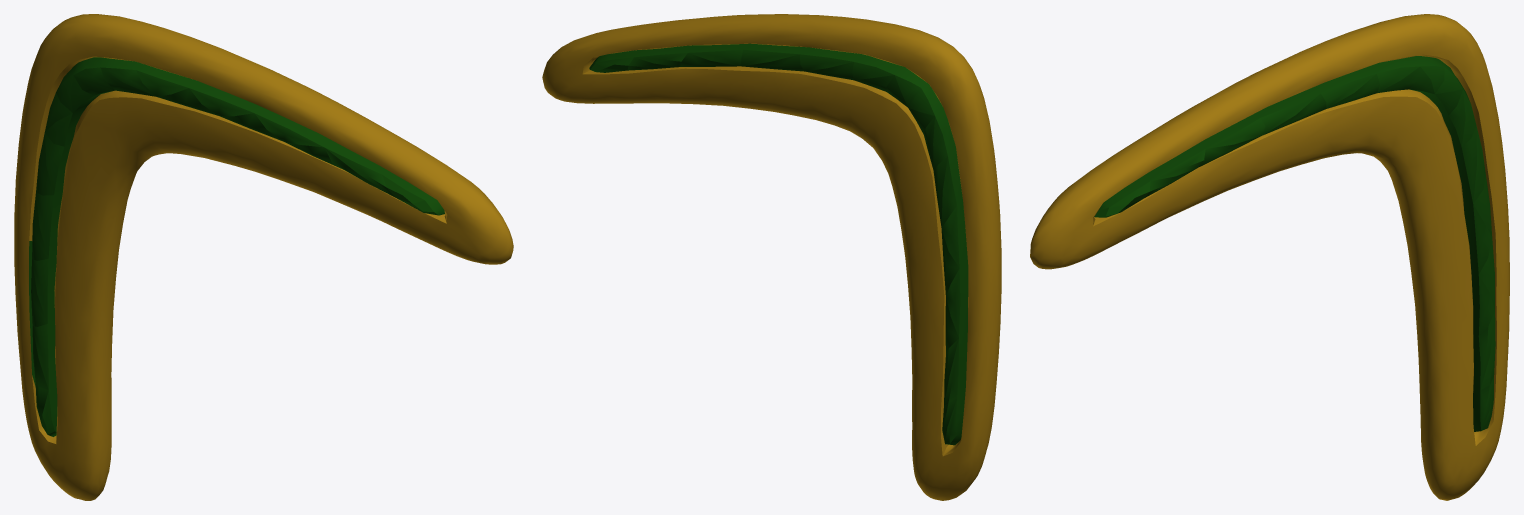
The picture shows the model from 3 angles, left to right: view 1: azimuth 30°, elevation 25°; view 2: azimuth 210°, elevation 25°; view 3: azimuth 270°, elevation 25°; orthographic projection. The views are drawn at different scales.
Visible parts, largest first — view 1: 336; view 2: 336; view 3: 336.
Part boxes in pixels (x1,y1,x2,y2): 336: (14,14,513,500); 336: (542,14,1001,500); 336: (1030,14,1509,500).
Size of the model in its own units: 21.36 by 33.85 by 37.77.
